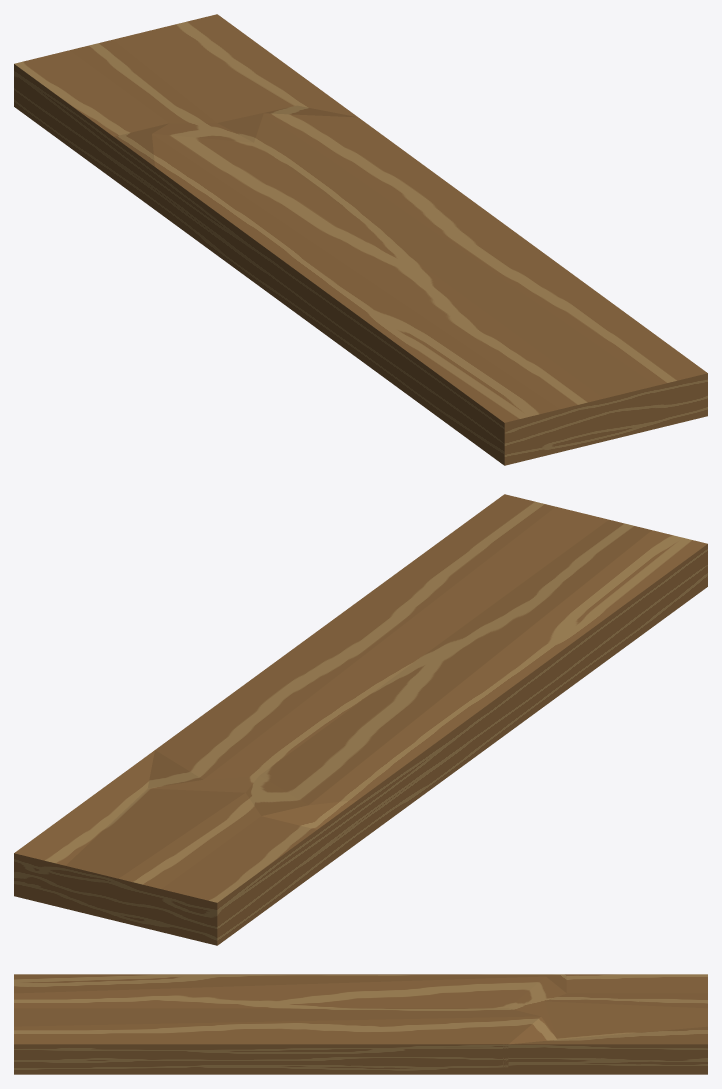
Rendered from plank.glb.
3 views of the same model, one above another, from view 1: azimuth 30°, elevation 25°; view 2: azimuth 150°, elevation 25°; view 3: azimuth 270°, elevation 25° (orthographic). The views are drawn at different scales.
Visible parts, largest first — view 1: Cube, Cube.001; view 2: Cube, Cube.001; view 3: Cube, Cube.001.
Boxes of the visible parts, <box> form: Cube: <box>152,113,707,465</box>; Cube.001: <box>14,14,357,209</box>; Cube: <box>155,494,707,842</box>; Cube.001: <box>14,750,358,945</box>; Cube: <box>14,974,545,1074</box>; Cube.001: <box>503,974,707,1074</box>.
Bounding box in the file's own units: 2.61 × 0.7076 × 10.9.
1 material, 1 textured.
